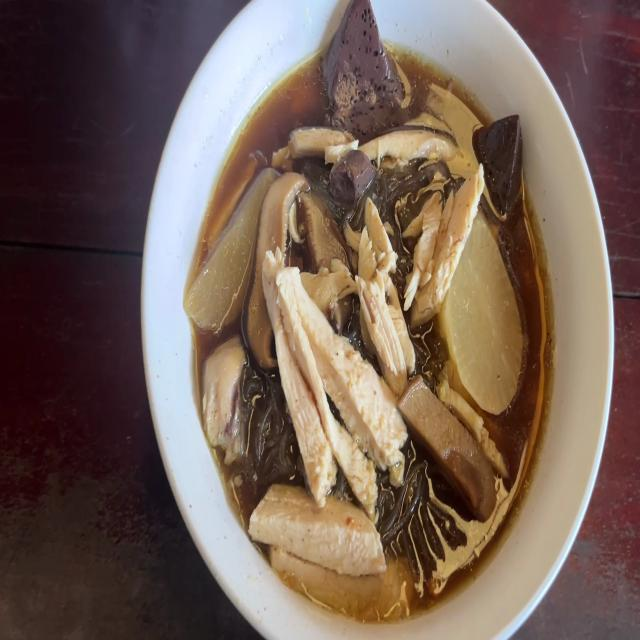boiled_chicken_blood_jelly: (322, 1, 408, 130), (476, 110, 528, 208), (322, 145, 378, 196)
chicken_shredded: (266, 254, 394, 493), (234, 486, 385, 580), (411, 166, 486, 308), (354, 200, 408, 373), (205, 335, 243, 450), (355, 128, 451, 158), (294, 123, 358, 164)
daikon_radish: (441, 232, 517, 399), (192, 170, 261, 329)
noodle: (194, 53, 552, 621)
